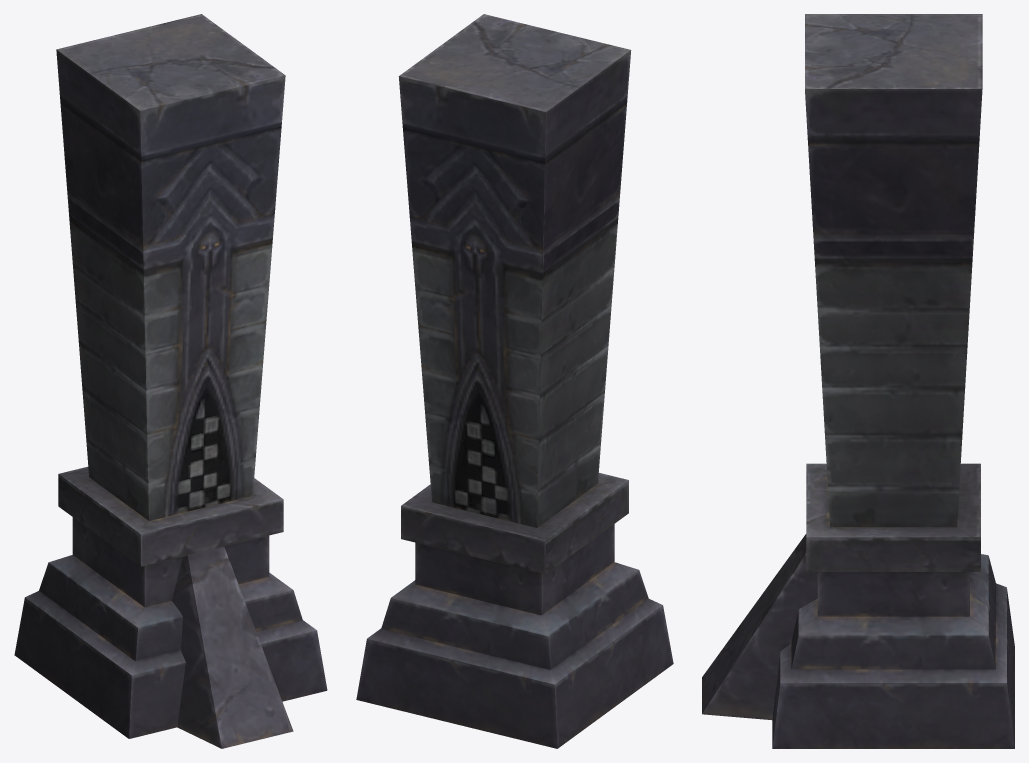
File: building_underground_qiangmian01.FBX
The picture shows the model from 3 angles, left to right: view 1: azimuth 30°, elevation 25°; view 2: azimuth 150°, elevation 25°; view 3: azimuth 270°, elevation 25°; orthographic projection. The views are drawn at different scales.
Visible parts, largest first — view 1: building_underground_qiangmian01; view 2: building_underground_qiangmian01; view 3: building_underground_qiangmian01.
Boxes of the visible parts, x1=… form: building_underground_qiangmian01: x1=14, y1=14, x2=327, y2=748; building_underground_qiangmian01: x1=356, y1=14, x2=673, y2=748; building_underground_qiangmian01: x1=702, y1=14, x2=1014, y2=748.
Size of the model in its own units: 2.39 by 7.03 by 3.09.
